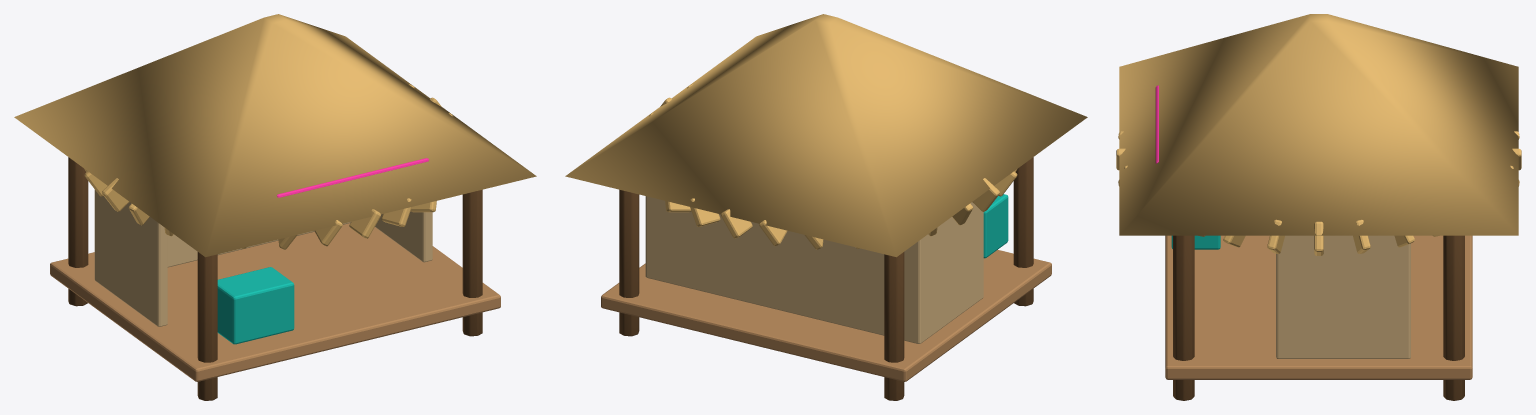
Rendered from pondok.glb.
The picture shows the model from 3 angles, left to right: view 1: azimuth 30°, elevation 25°; view 2: azimuth 150°, elevation 25°; view 3: azimuth 270°, elevation 25°; orthographic projection. The views are drawn at different scales.
Parts seen in each view (by area): view 1: Cone, Cube, Cube.002, Cube.033, Cylinder, Cylinder.002, Cylinder.001, Cube.003, Cube.001, Cube.032, Cube.025; view 2: Cone, Cube.001, Cube, Cube.002, Cylinder.001, Cylinder.003, Cylinder, Cube.033, Cube.011; view 3: Cone, Cube, Cube.003, Cylinder.002, Cylinder.003, Cube.001, Cube.033.
Part boxes in pixels (x1=…): Cone: x1=14, y1=14, x2=536, y2=257; Cube: x1=50, y1=223, x2=500, y2=381; Cube.002: x1=98, y1=194, x2=167, y2=326; Cube.033: x1=217, y1=267, x2=294, y2=344; Cylinder: x1=197, y1=252, x2=217, y2=400; Cylinder.002: x1=462, y1=189, x2=482, y2=336; Cylinder.001: x1=68, y1=157, x2=88, y2=306; Cube.003: x1=375, y1=211, x2=432, y2=262; Cube.001: x1=94, y1=189, x2=350, y2=282; Cube.032: x1=277, y1=158, x2=428, y2=197; Cube.025: x1=349, y1=209, x2=380, y2=238; Cone: x1=565, y1=14, x2=1087, y2=257; Cube.001: x1=645, y1=196, x2=924, y2=343; Cube: x1=601, y1=250, x2=1051, y2=381; Cube.002: x1=911, y1=202, x2=983, y2=342; Cylinder.001: x1=884, y1=252, x2=904, y2=400; Cylinder.003: x1=619, y1=189, x2=639, y2=336; Cylinder: x1=1013, y1=157, x2=1033, y2=306; Cube.033: x1=983, y1=194, x2=1008, y2=258; Cube.011: x1=721, y1=209, x2=752, y2=238; Cone: x1=1119, y1=14, x2=1518, y2=235; Cube: x1=1165, y1=235, x2=1472, y2=379; Cube.003: x1=1276, y1=235, x2=1401, y2=358; Cylinder.002: x1=1173, y1=235, x2=1194, y2=400; Cylinder.003: x1=1443, y1=235, x2=1464, y2=400; Cube.001: x1=1401, y1=243, x2=1410, y2=358; Cube.033: x1=1171, y1=235, x2=1220, y2=249.
Size of the model in its own units: 6.76 by 5.6 by 6.6.
